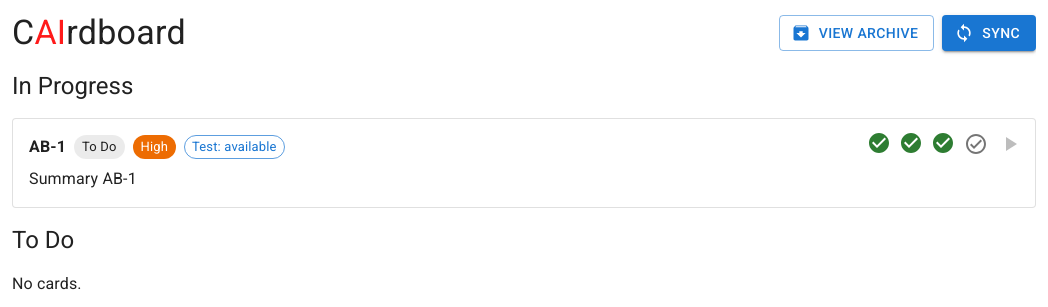
Test: clicking the grey Test check approves and turns it green
Click the button named "Test": [976, 144] box [959,127,993,161]
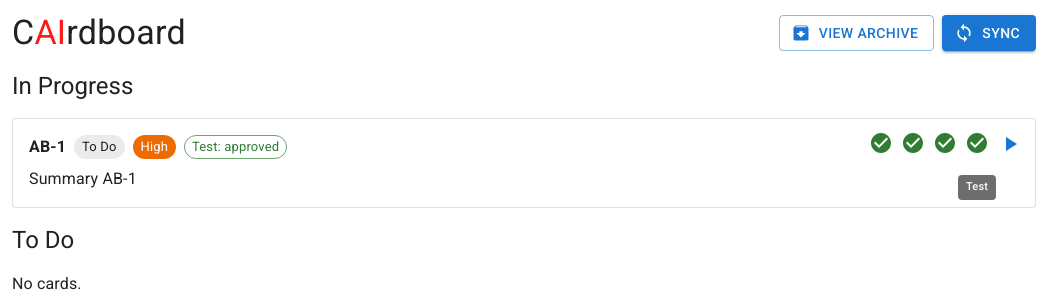
Check: the text "Test: approved" is shown, box [185,137,286,157]
Check: the picture named "Test" is shown, box [965,131,989,155]
